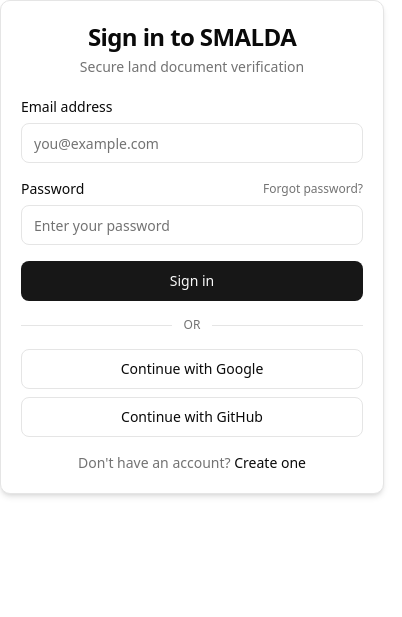
Test: LoginForm › does not redirect when session-state persistence fails
Type "person@example.com" into the field labelled "Email address" at (192, 143), box [21, 123, 363, 163]
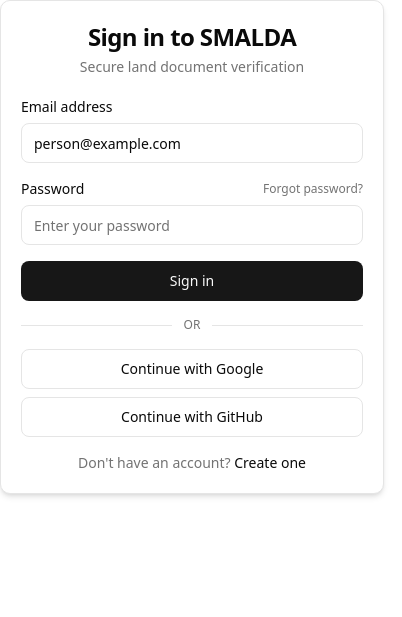
Type "correct-password" into the password field labelled "Password" at (192, 225), box [21, 205, 363, 245]
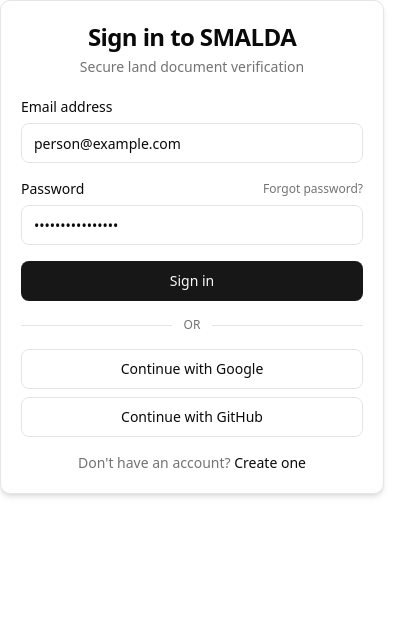
Click the button "Sign in" at (192, 281), box [21, 261, 363, 301]
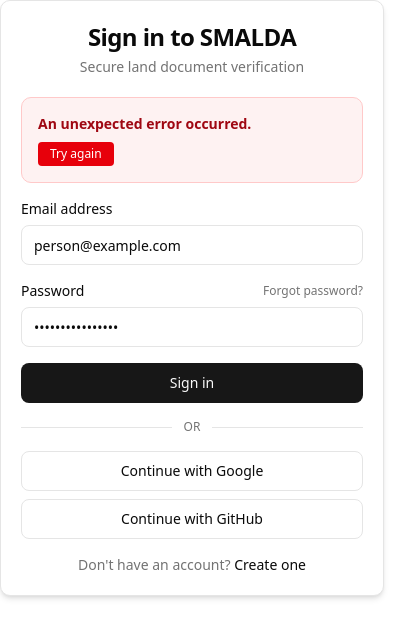
Expected: the text "An unexpected error occurred." is shown, [38, 114, 251, 133]
